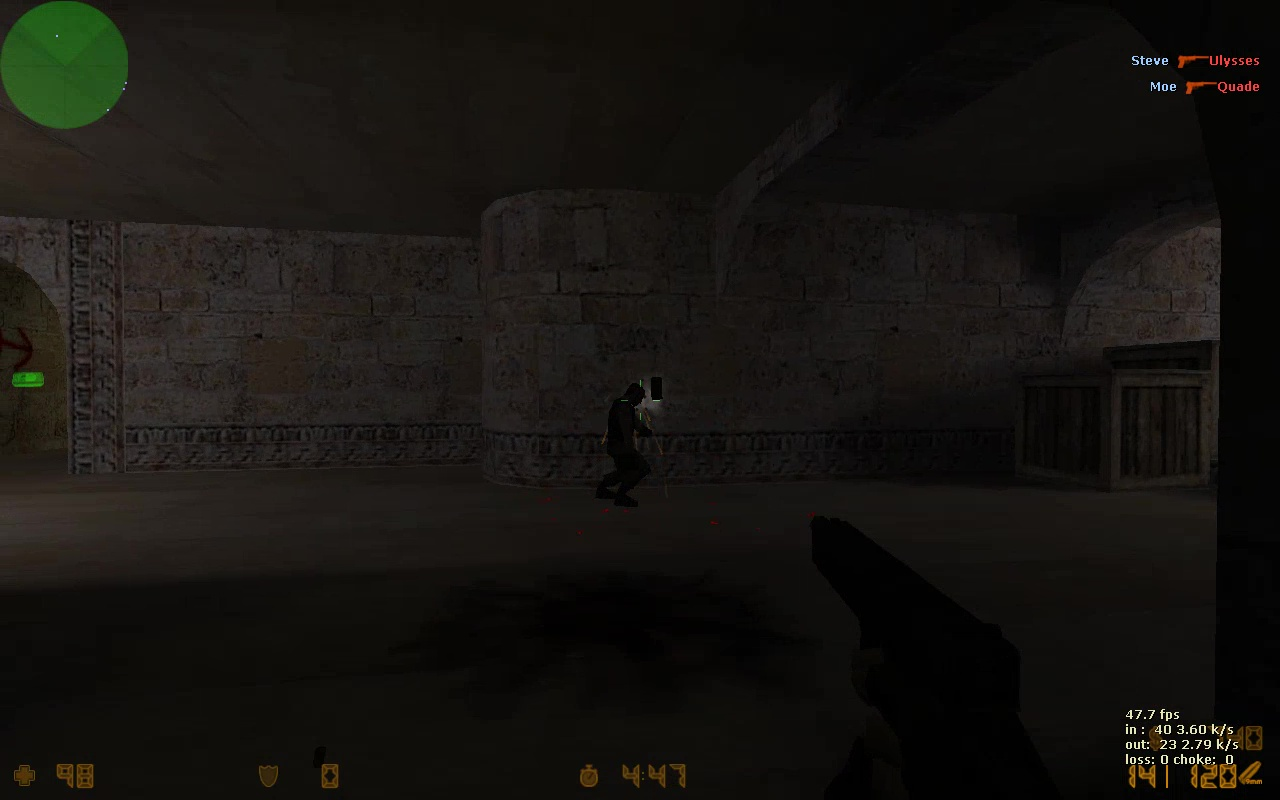terr1: (595, 385, 652, 508)
